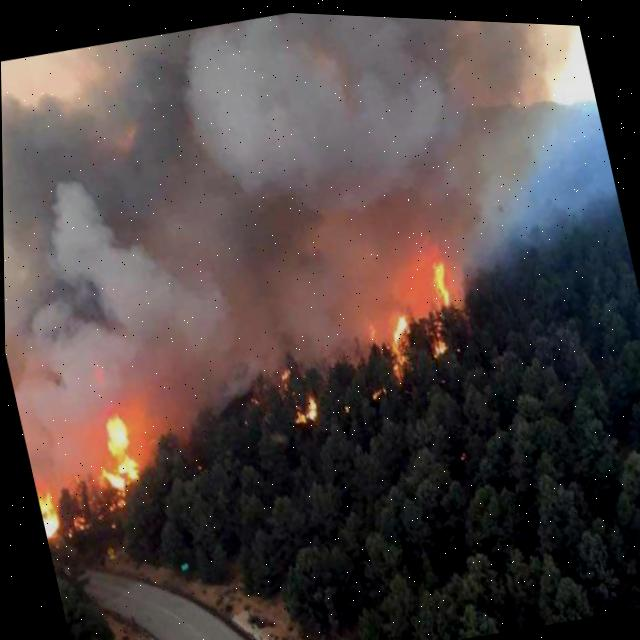fire: (99, 413, 138, 492), (388, 310, 409, 374), (36, 494, 59, 538), (432, 257, 448, 301), (295, 393, 315, 422), (432, 336, 446, 351), (278, 363, 289, 380)
smoke: (1, 10, 594, 492)
